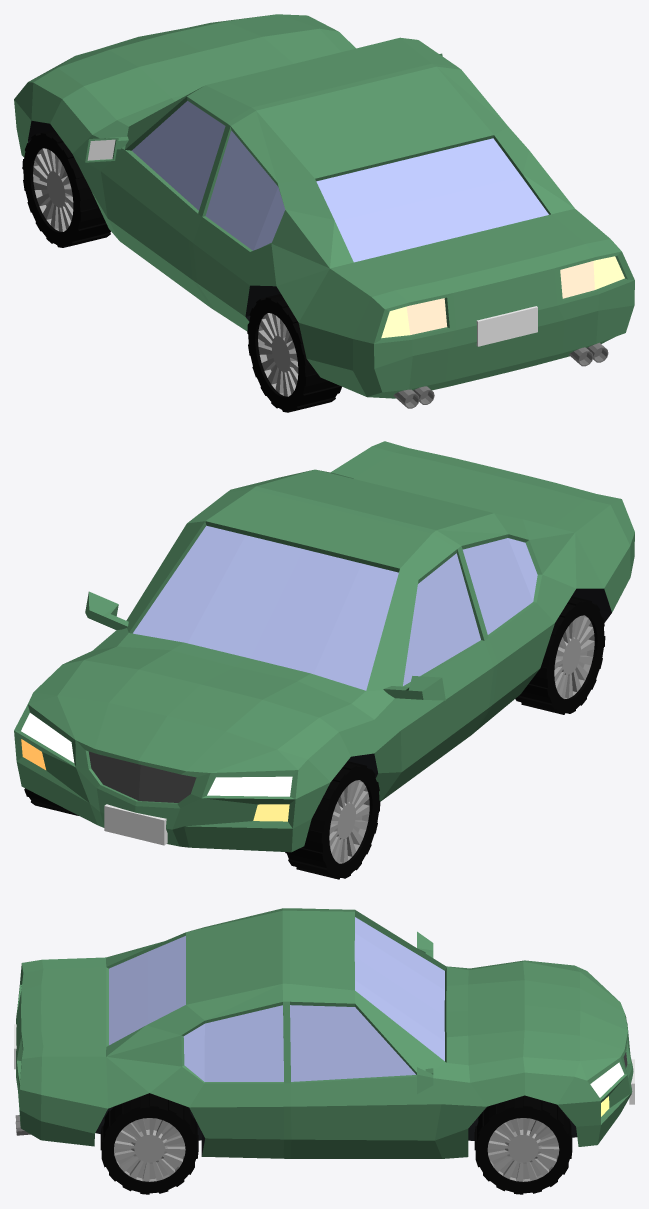
File: car2.glb
3 views of the same model, one above another, from view 1: azimuth 30°, elevation 25°; view 2: azimuth 150°, elevation 25°; view 3: azimuth 270°, elevation 25° (orthographic). The views are drawn at different scales.
Parts seen in each view (by area): view 1: Car Body_2, Wheel - Front Left_3, Wheel - Rear Left_6, License Plate - Rear_1; view 2: Car Body_2, Wheel - Front Left_3, Wheel - Rear Left_6, License Plate - Front_0; view 3: Car Body_2, Wheel - Rear Right_4, Wheel - Front Right_5.
Boxes of the visible parts, <box> form: Car Body_2: <box>14,14,634,408</box>; Wheel - Front Left_3: <box>22,129,110,247</box>; Wheel - Rear Left_6: <box>247,294,341,412</box>; License Plate - Rear_1: <box>476,306,537,346</box>; Car Body_2: <box>14,441,634,852</box>; Wheel - Front Left_3: <box>285,761,380,879</box>; Wheel - Rear Left_6: <box>515,596,605,714</box>; License Plate - Front_0: <box>104,804,167,845</box>; Car Body_2: <box>15,908,633,1158</box>; Wheel - Rear Right_4: <box>100,1093,198,1194</box>; Wheel - Front Right_5: <box>474,1095,572,1194</box>.
Size of the model in its own units: 2.41 by 1.43 by 4.32.
